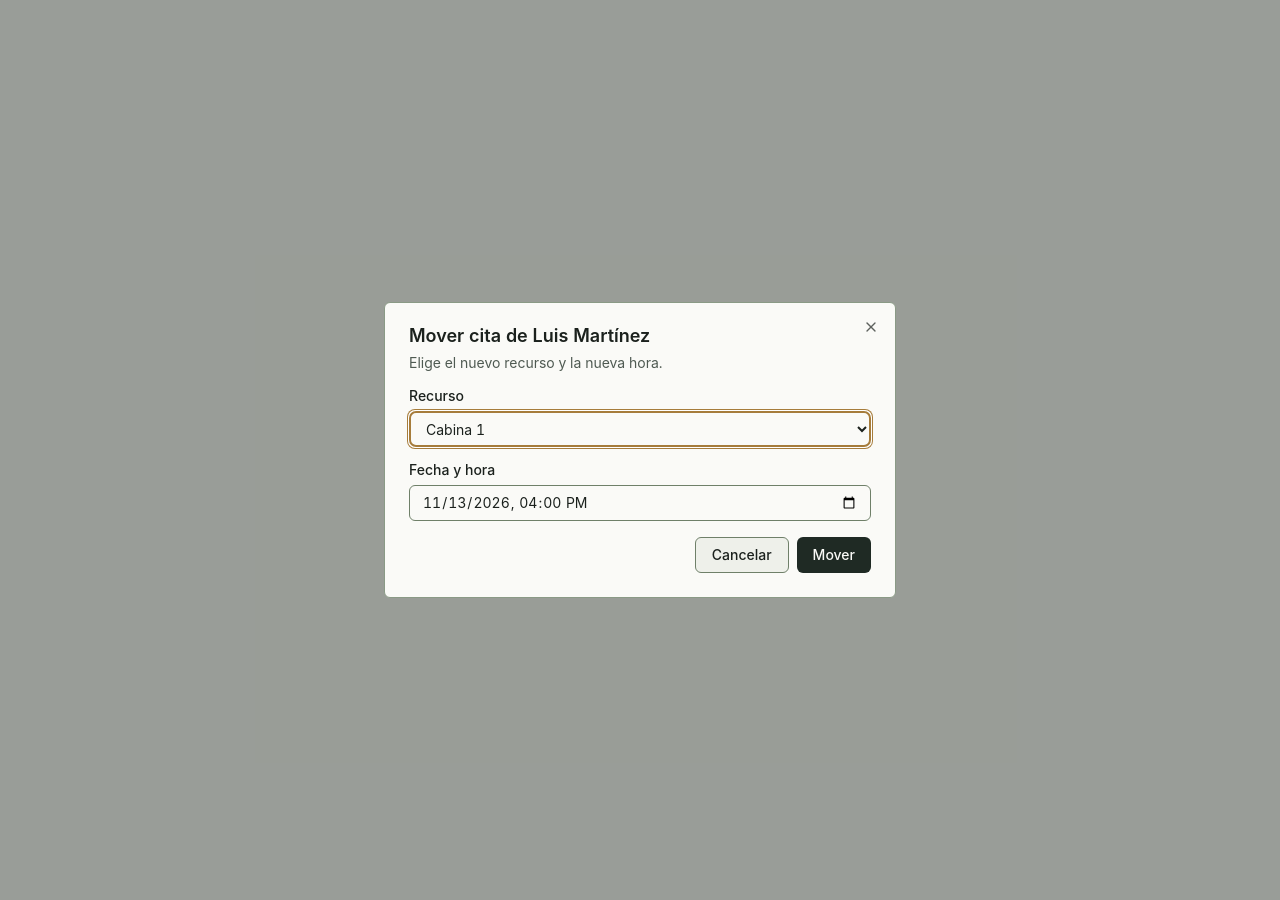
MoveDialog › valida la hora y no envía
This screenshot has width=1280, height=900.
Replace the text in the field labelled "Fecha y hora" with "2026-11-13T11:31": {"x": 640, "y": 503} [409,485,871,521]
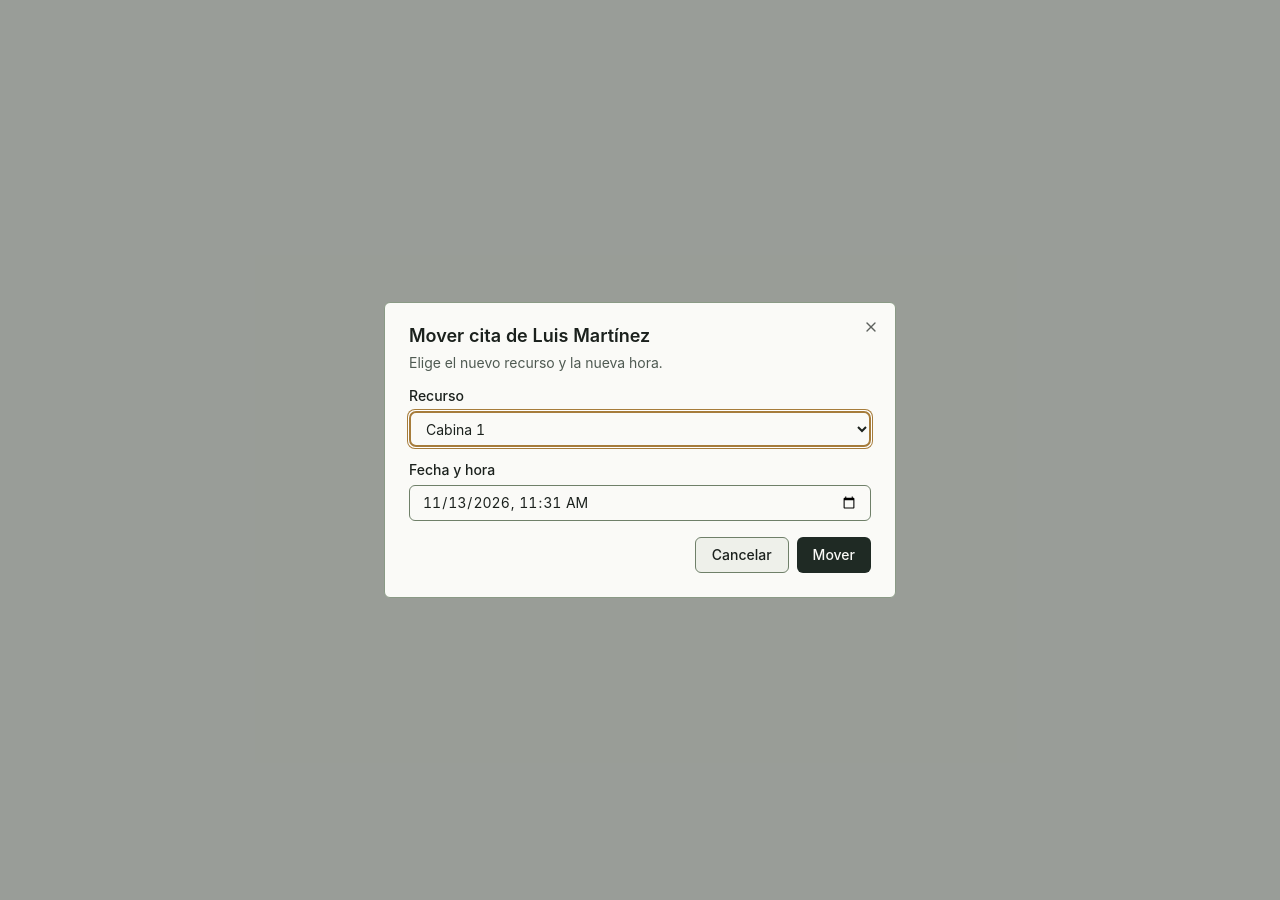
Click the button "Mover": {"x": 834, "y": 555} [797,537,871,573]
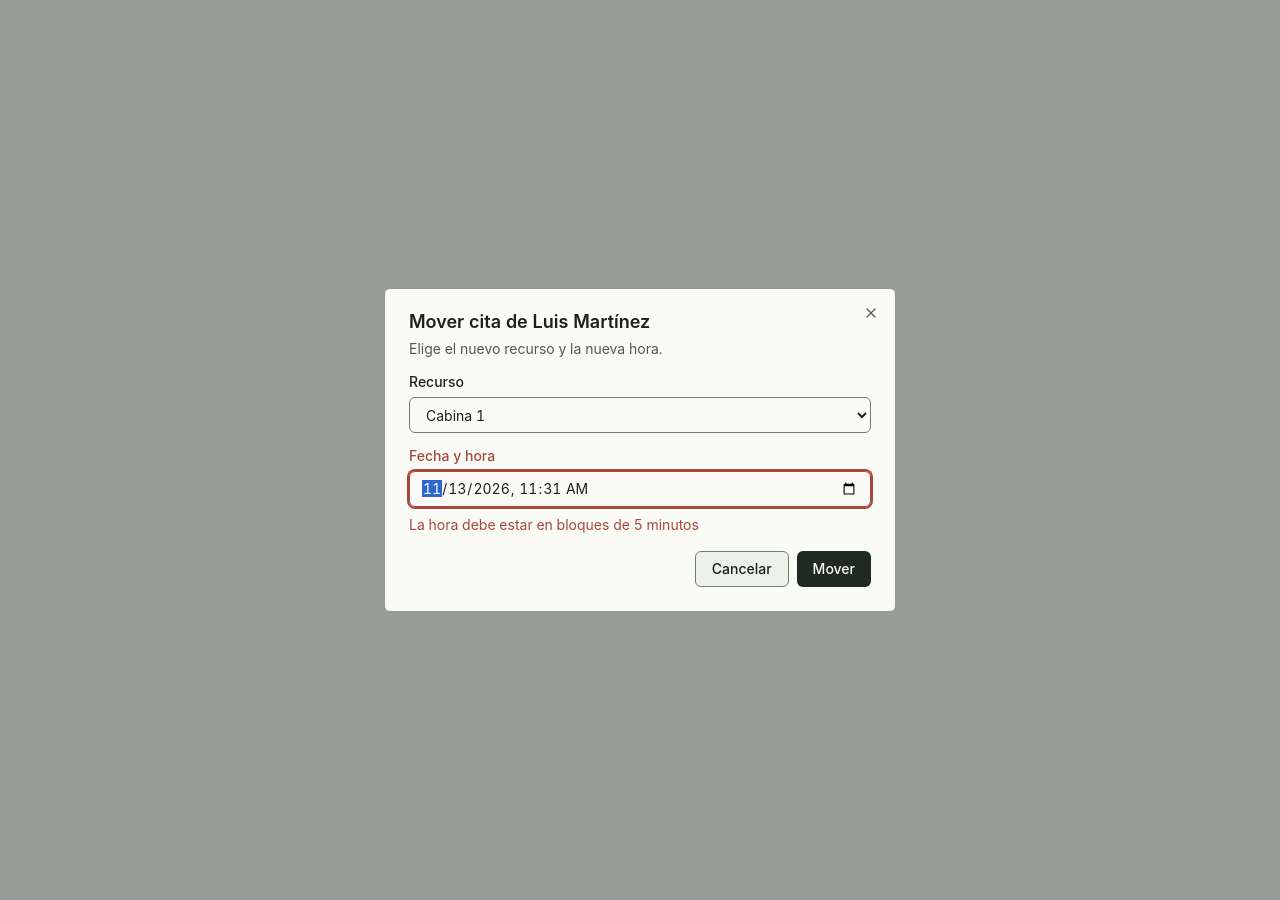
Check: the text "La hora debe estar en bloques de 5 minutos" is shown, box [409,516,699,533]
